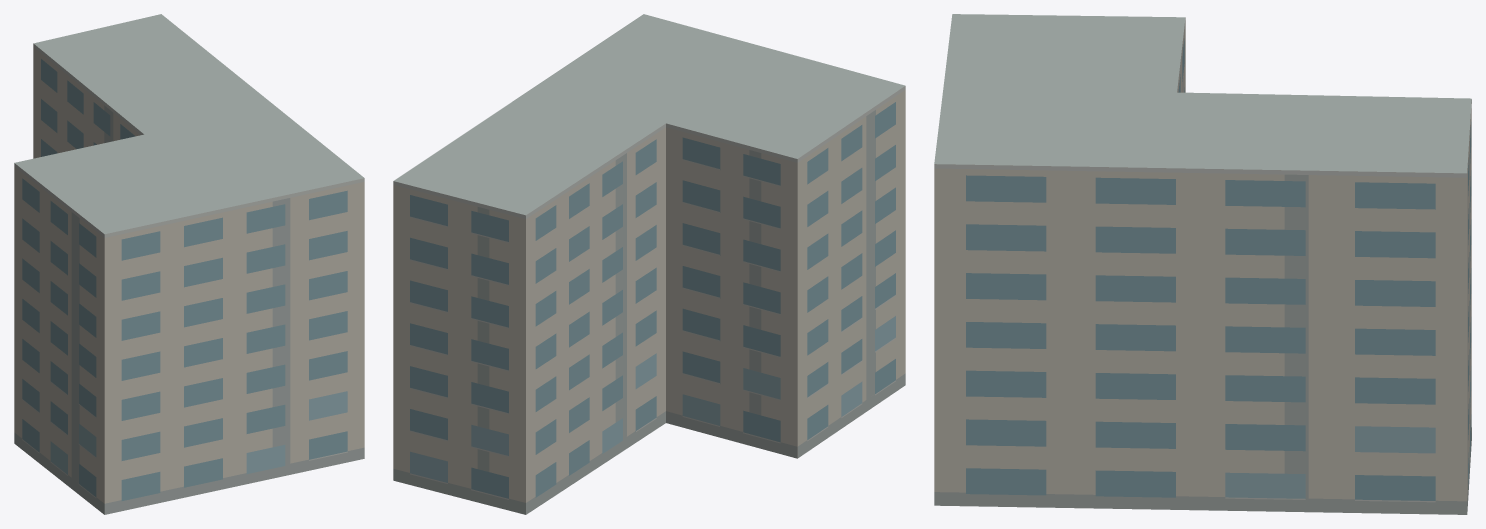
Rendered from survey-upis-32767684.glb.
The picture shows the model from 3 angles, left to right: view 1: azimuth 30°, elevation 25°; view 2: azimuth 150°, elevation 25°; view 3: azimuth 270°, elevation 25°; orthographic projection. The views are drawn at different scales.
Parts seen in each view (by area): view 1: survey-upis-32767684.tmp; view 2: survey-upis-32767684.tmp; view 3: survey-upis-32767684.tmp.
Boxes of the visible parts, x1,y1,x2,y2 form: survey-upis-32767684.tmp: (14,14,364,514); survey-upis-32767684.tmp: (393,14,905,514); survey-upis-32767684.tmp: (934,14,1471,514).
Bounding box in the file's own units: 18.92 × 18.9 × 26.97.
